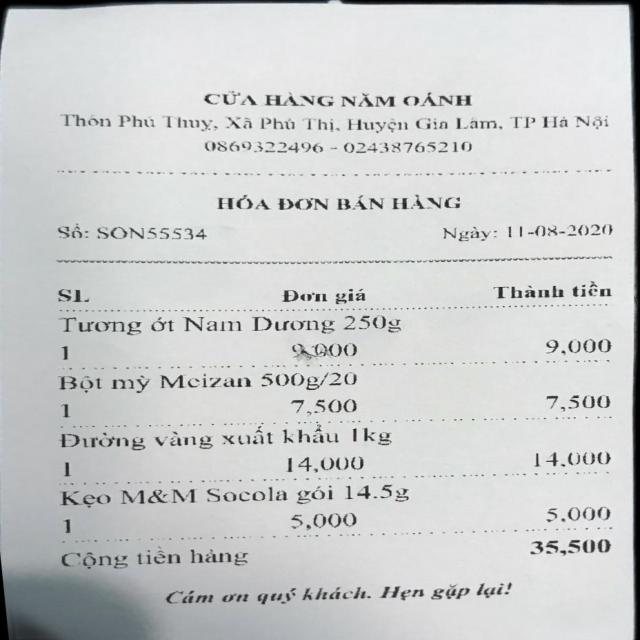Date: (499, 209, 626, 247)
Store_Name: (177, 72, 509, 113)
Total_Amount: (22, 533, 633, 568)
